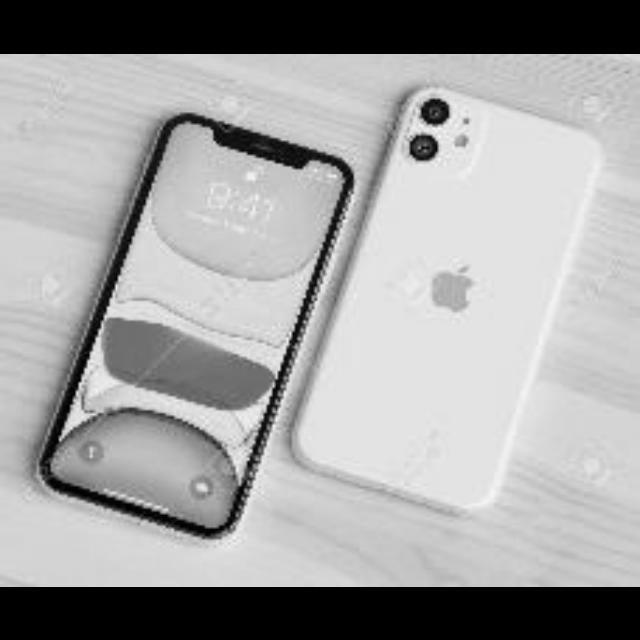fake: (47, 115, 359, 537)
